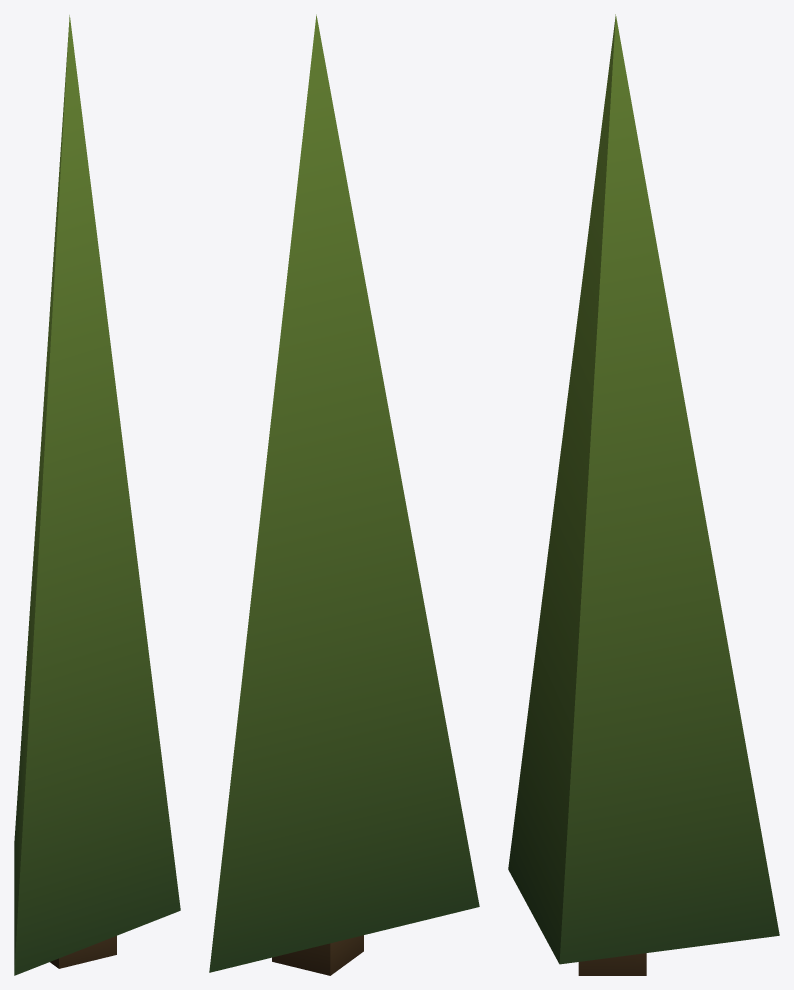
Rendered from thuja.glb.
3 renders of one model, left to right at view 1: azimuth 30°, elevation 25°; view 2: azimuth 150°, elevation 25°; view 3: azimuth 270°, elevation 25°, orthographic.
Parts seen in each view (by area): view 1: Cone.005, Cube.003; view 2: Cone.005, Cube.003; view 3: Cone.005, Cube.003.
Boxes of the visible parts, left/top/right/bottom form: Cone.005: left=14, top=15, right=180, bottom=975; Cube.003: left=50, top=936, right=116, bottom=968; Cone.005: left=209, top=14, right=479, bottom=972; Cube.003: left=272, top=935, right=363, bottom=975; Cone.005: left=508, top=14, right=779, bottom=964; Cube.003: left=578, top=953, right=646, bottom=975.
Bounding box in the file's own units: 1.38 × 6.43 × 1.67.
